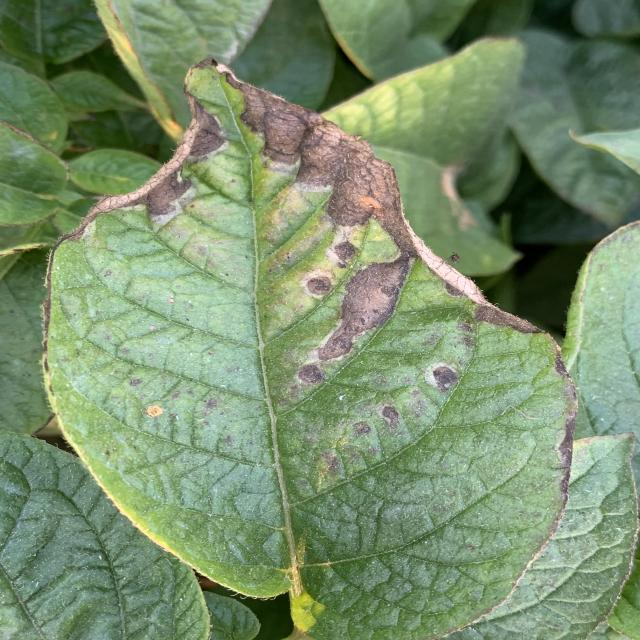lateblight: (223, 70, 490, 344), (95, 160, 207, 226), (352, 389, 422, 456), (180, 101, 225, 160), (475, 305, 543, 334), (298, 269, 335, 299), (425, 361, 458, 392), (358, 240, 397, 262)
